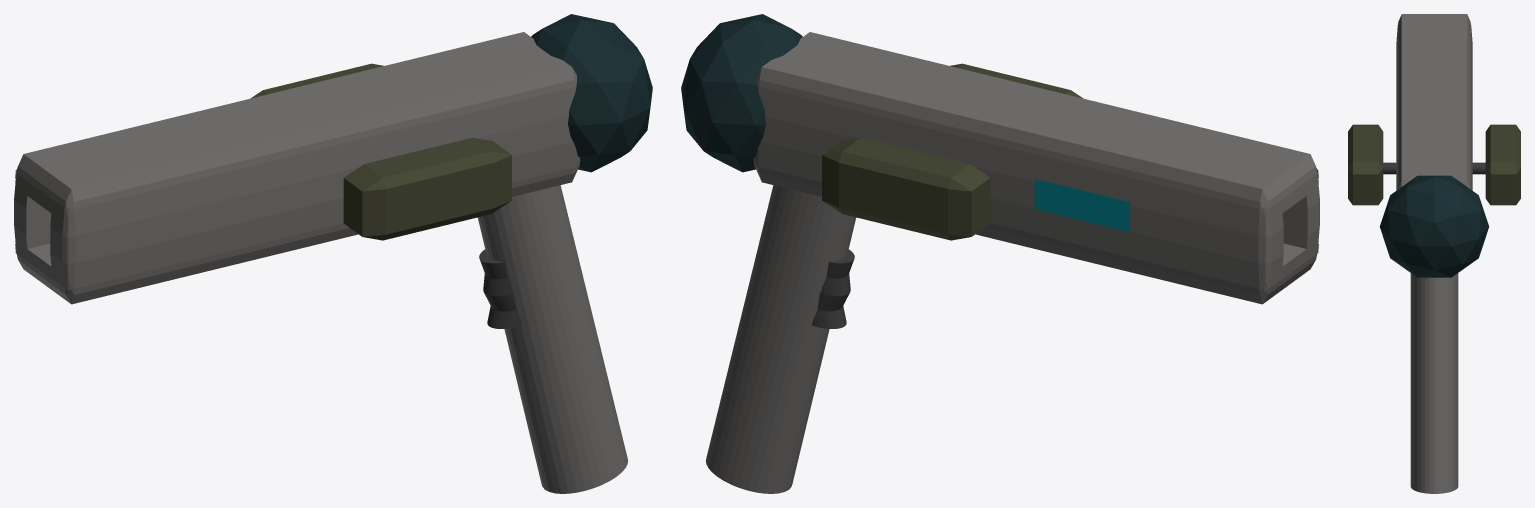
The model's file is бластер.fbx.
3 views of the same model, side by side, from view 1: azimuth 30°, elevation 25°; view 2: azimuth 150°, elevation 25°; view 3: azimuth 270°, elevation 25° (orthographic). The views are drawn at different scales.
Parts seen in each view (by area): view 1: &#" - - 07|; view 2: &#" - - 07|; view 3: &#" - - 07|.
Boxes of the visible parts, x1,y1,x2,y2 form: &#" - - 07|: (14,14,652,493); &#" - - 07|: (681,14,1319,493); &#" - - 07|: (1348,14,1520,493).
Bounding box in the file's own units: 402 × 294 × 147.
